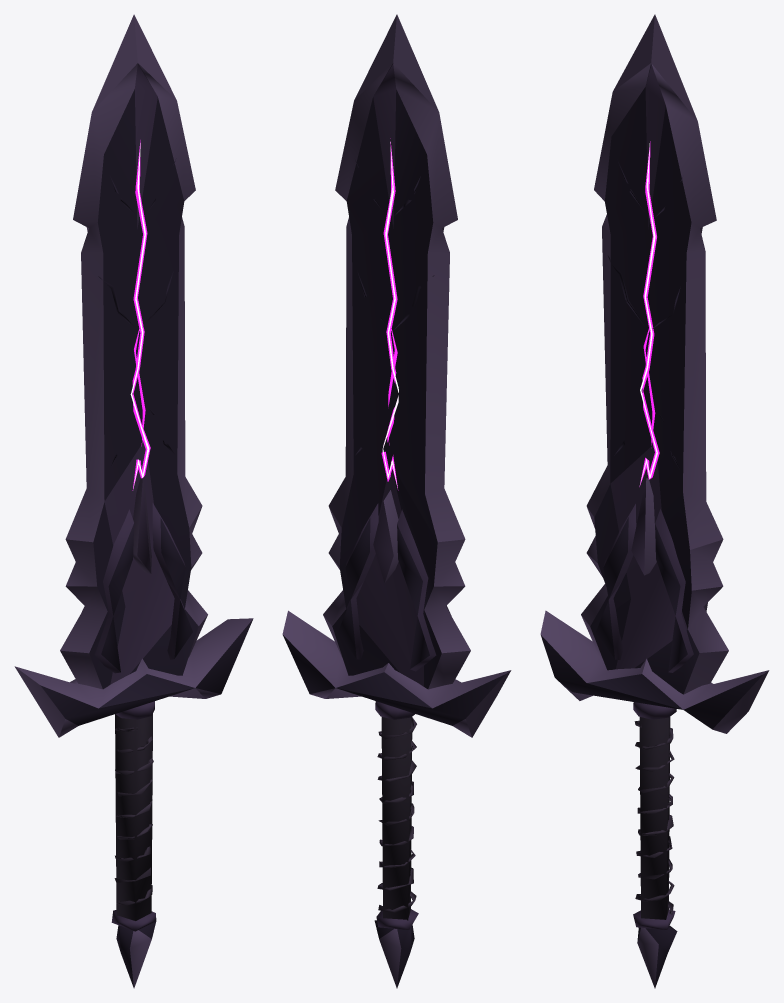
The model's file is KiemIgnisTim.fbx.
The picture shows the model from 3 angles, left to right: view 1: azimuth 30°, elevation 25°; view 2: azimuth 150°, elevation 25°; view 3: azimuth 330°, elevation 25°; orthographic projection.
Parts seen in each view (by area): view 1: Swept hooked crossguard_export; view 2: Swept hooked crossguard_export; view 3: Swept hooked crossguard_export.
Boxes of the visible parts, box(x1,y1,x2,y2) form: Swept hooked crossguard_export: box(14, 14, 253, 988); Swept hooked crossguard_export: box(282, 14, 511, 988); Swept hooked crossguard_export: box(540, 14, 769, 988).
Size of the model in its own units: 0.394 by 1.6 by 0.0981.
